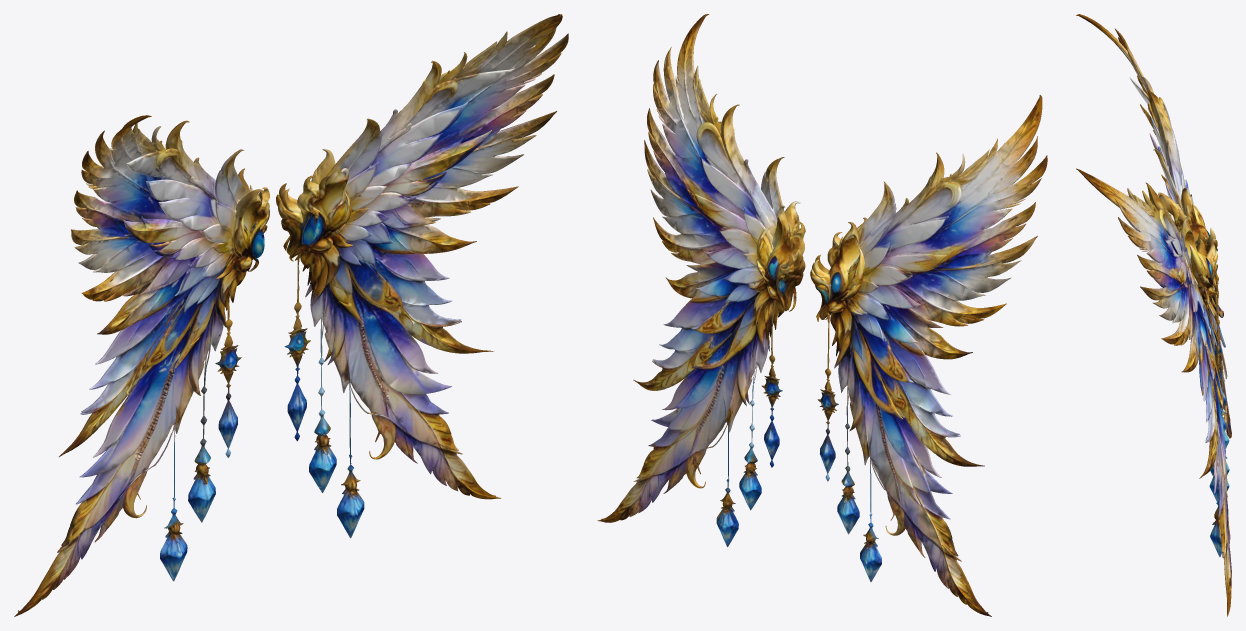
The model's file is GoddessOfValleys.glb.
The picture shows the model from 3 angles, left to right: view 1: azimuth 30°, elevation 25°; view 2: azimuth 150°, elevation 25°; view 3: azimuth 270°, elevation 25°; orthographic projection. The views are drawn at different scales.
Parts seen in each view (by area): view 1: node_0; view 2: node_0; view 3: node_0.
Boxes of the visible parts, x1,y1,x2,y2 form: node_0: [14, 14, 568, 616]; node_0: [597, 14, 1047, 616]; node_0: [1076, 14, 1231, 616].
Bounding box in the file's own units: 0.9131 × 1.01 × 0.329.
1 material, 1 textured.
